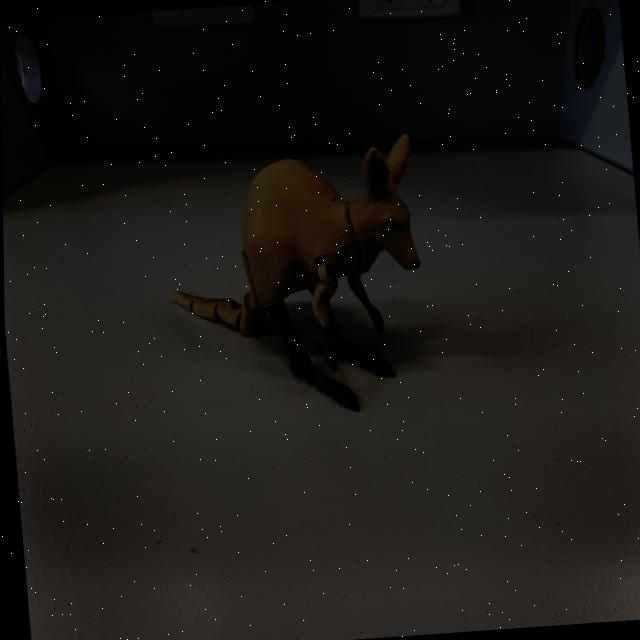kangaroo: (156, 133, 429, 423)
